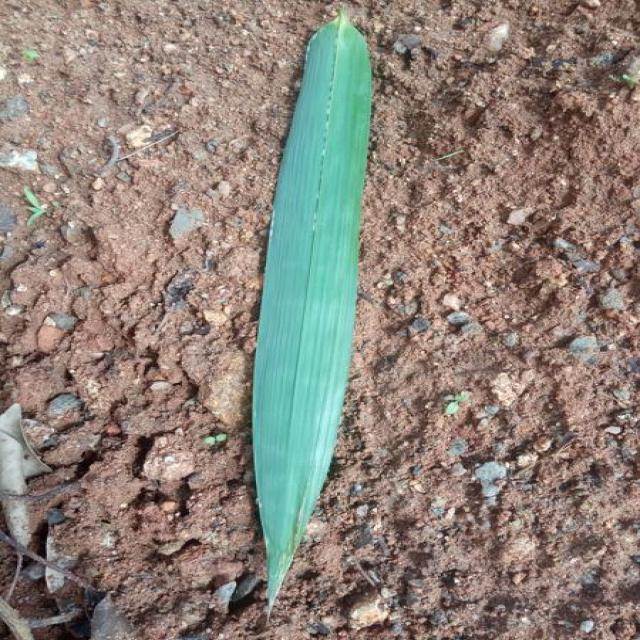Bamboo: (252, 11, 372, 612)
